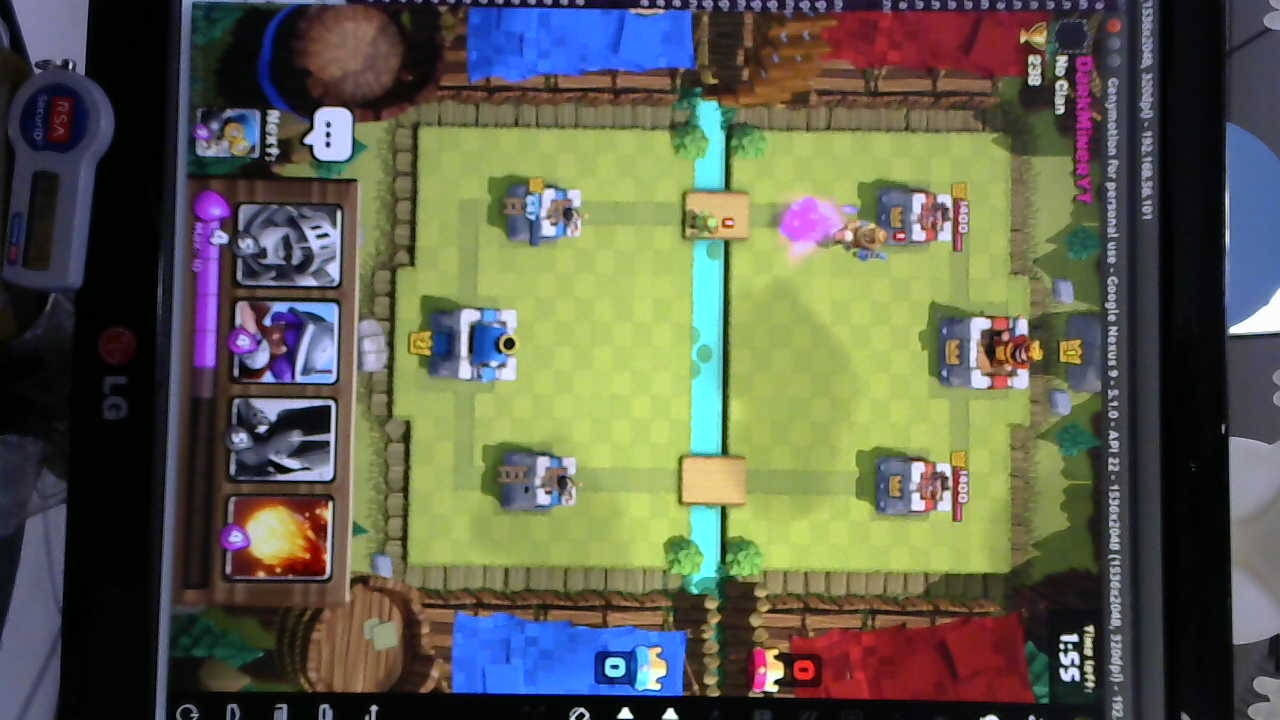arena: (501, 455, 583, 513), (497, 187, 580, 244)
earena: (869, 455, 954, 516), (872, 188, 954, 249)
eking: (937, 312, 1044, 392)
king: (425, 302, 525, 383)
prince: (832, 219, 889, 258)
speargoblin: (679, 205, 727, 241)
